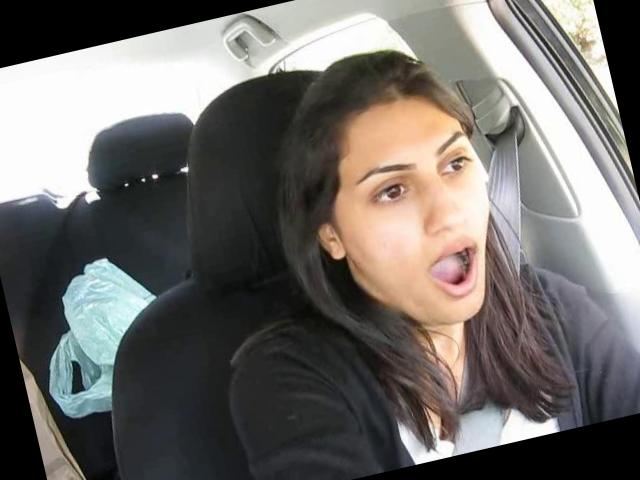eye_open: (365, 174, 416, 213), (436, 145, 478, 183)
face: (329, 120, 521, 346)
mouth_open: (419, 232, 494, 306)
